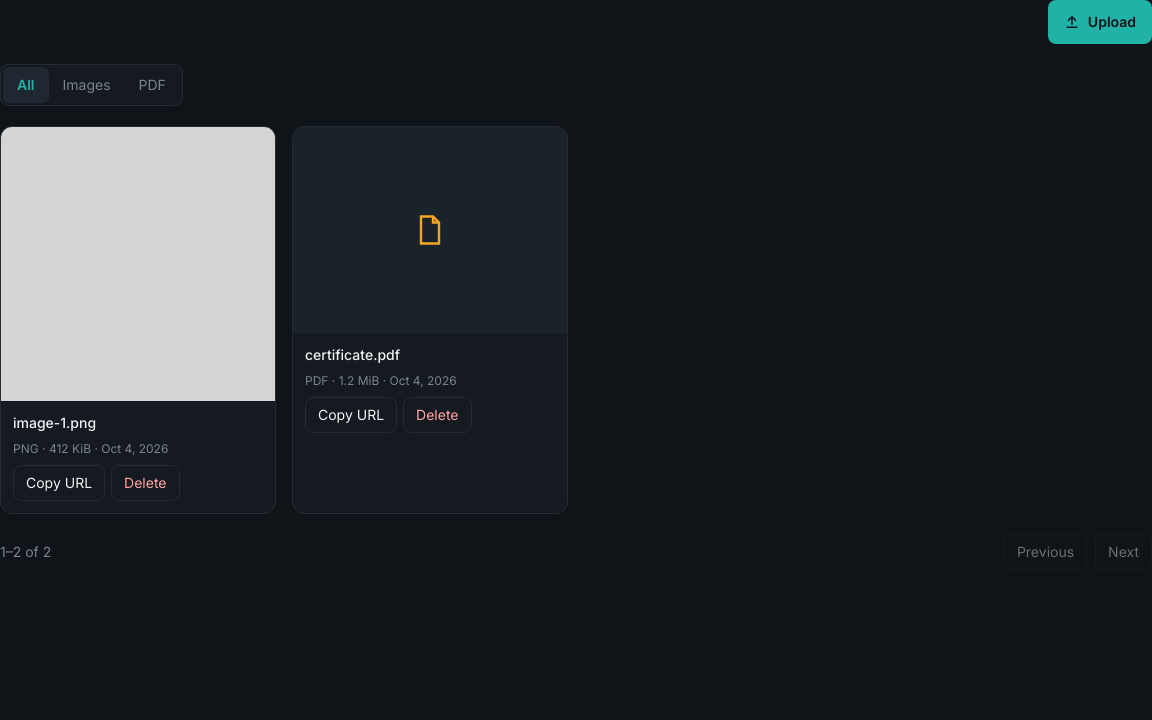
Test: FileLibrary › removes a deleted file from the grid
This screenshot has width=1152, height=720.
Click the button "Delete" below "412 KiB" at (145, 483), box [111, 465, 180, 501]
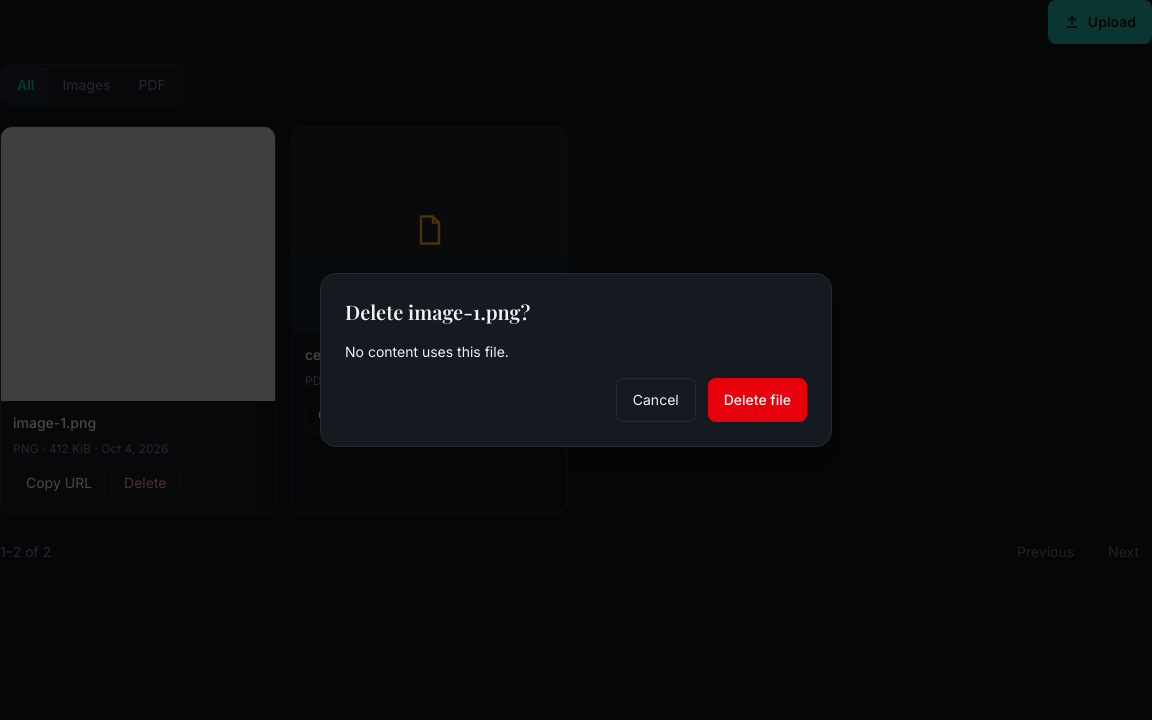
Click the button "Delete file" at (757, 400), box [708, 378, 807, 422]
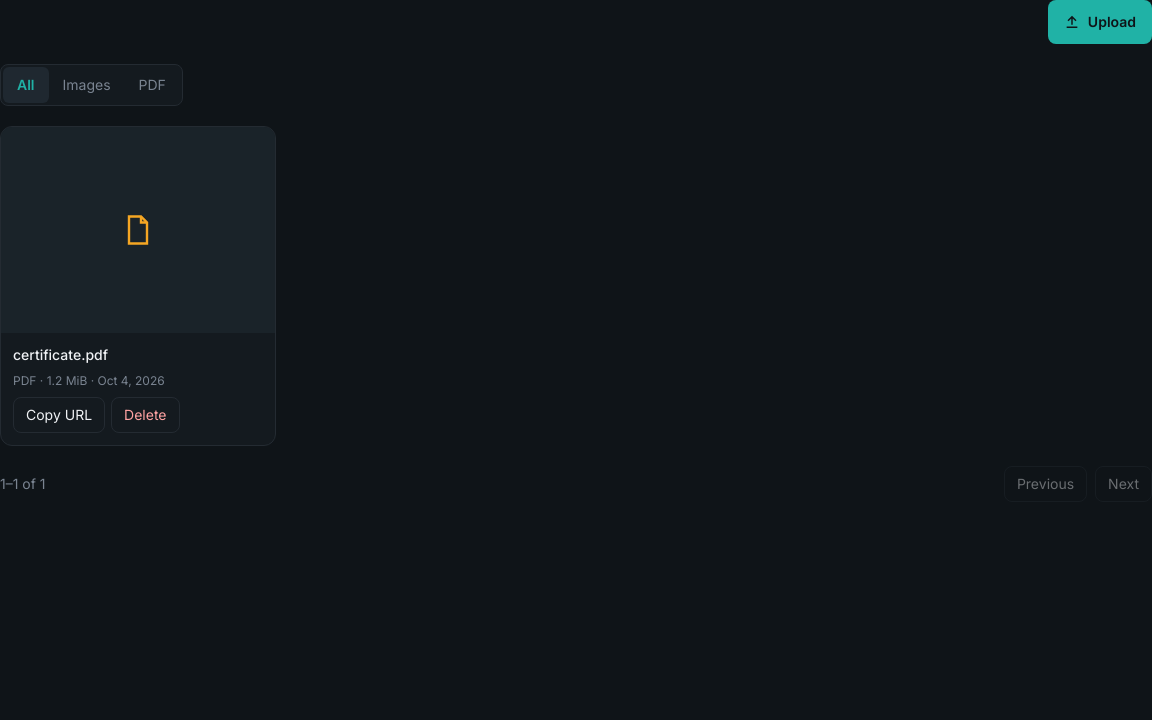
Expected: the text "certificate.pdf" is shown, [13, 346, 108, 362]
Expected: the dialog is gone
Expected: the number of list items is 1, [0, 126, 276, 446]
